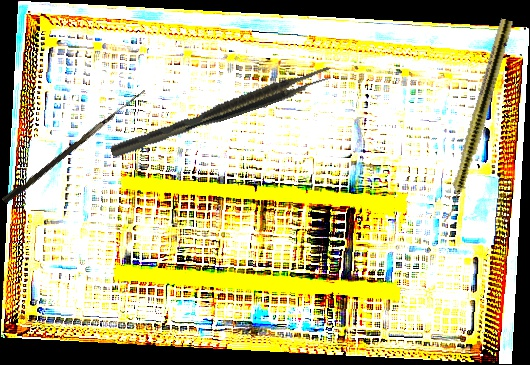Handpiece: (439, 17, 515, 226)
Hook Surgical: (1, 83, 146, 207)
Tissue Forceps: (107, 63, 335, 159)
